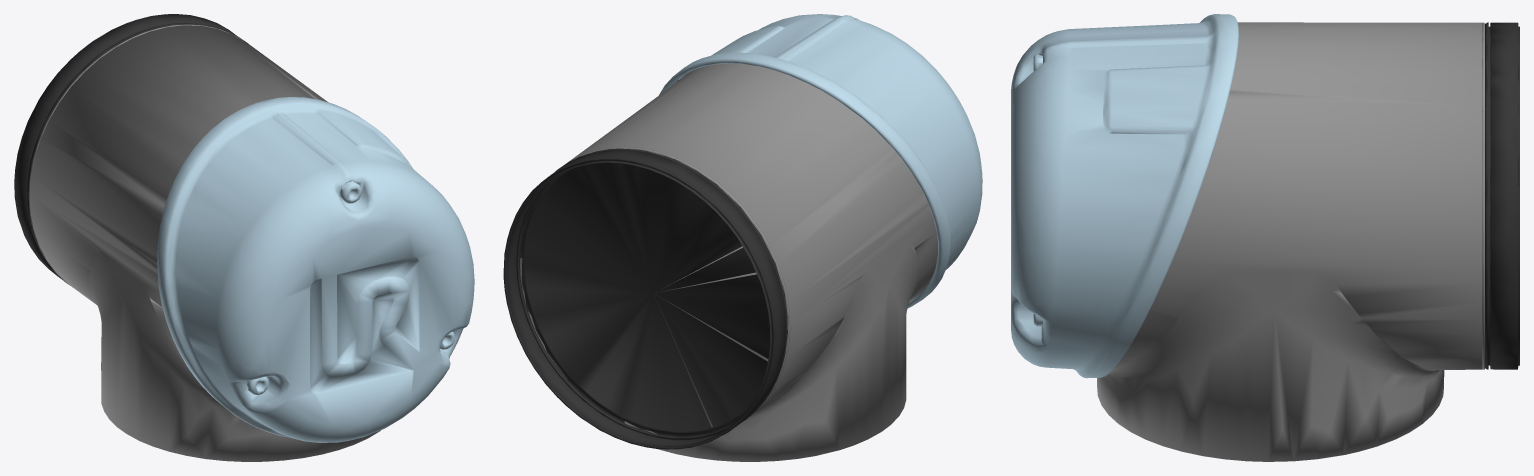
The model's file is wrist2.dae.
3 renders of one model, left to right at view 1: azimuth 30°, elevation 25°; view 2: azimuth 150°, elevation 25°; view 3: azimuth 270°, elevation 25°, orthographic. The views are drawn at different scales.
Parts seen in each view (by area): view 1: eSeries_UR5e_029, eSeries_UR5e_049, eSeries_UR5e_002; view 2: eSeries_UR5e_049, eSeries_UR5e_002, eSeries_UR5e_029; view 3: eSeries_UR5e_049, eSeries_UR5e_029, eSeries_UR5e_002.
Boxes of the visible parts, <box> form: eSeries_UR5e_029: <box>157,97,474,442</box>; eSeries_UR5e_049: <box>28,24,380,461</box>; eSeries_UR5e_002: <box>14,14,245,284</box>; eSeries_UR5e_049: <box>519,63,937,461</box>; eSeries_UR5e_002: <box>503,148,787,449</box>; eSeries_UR5e_029: <box>659,14,982,308</box>; eSeries_UR5e_049: <box>1097,22,1484,461</box>; eSeries_UR5e_029: <box>1011,14,1238,378</box>; eSeries_UR5e_002: <box>1485,22,1519,369</box>.
Size of the model in its own units: 0.0787 by 0.1099 by 0.0852.
